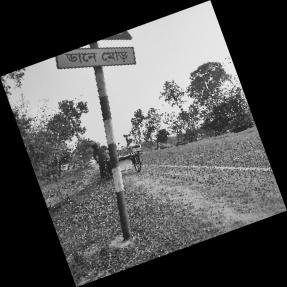Right-turn: (55, 31, 137, 70)
